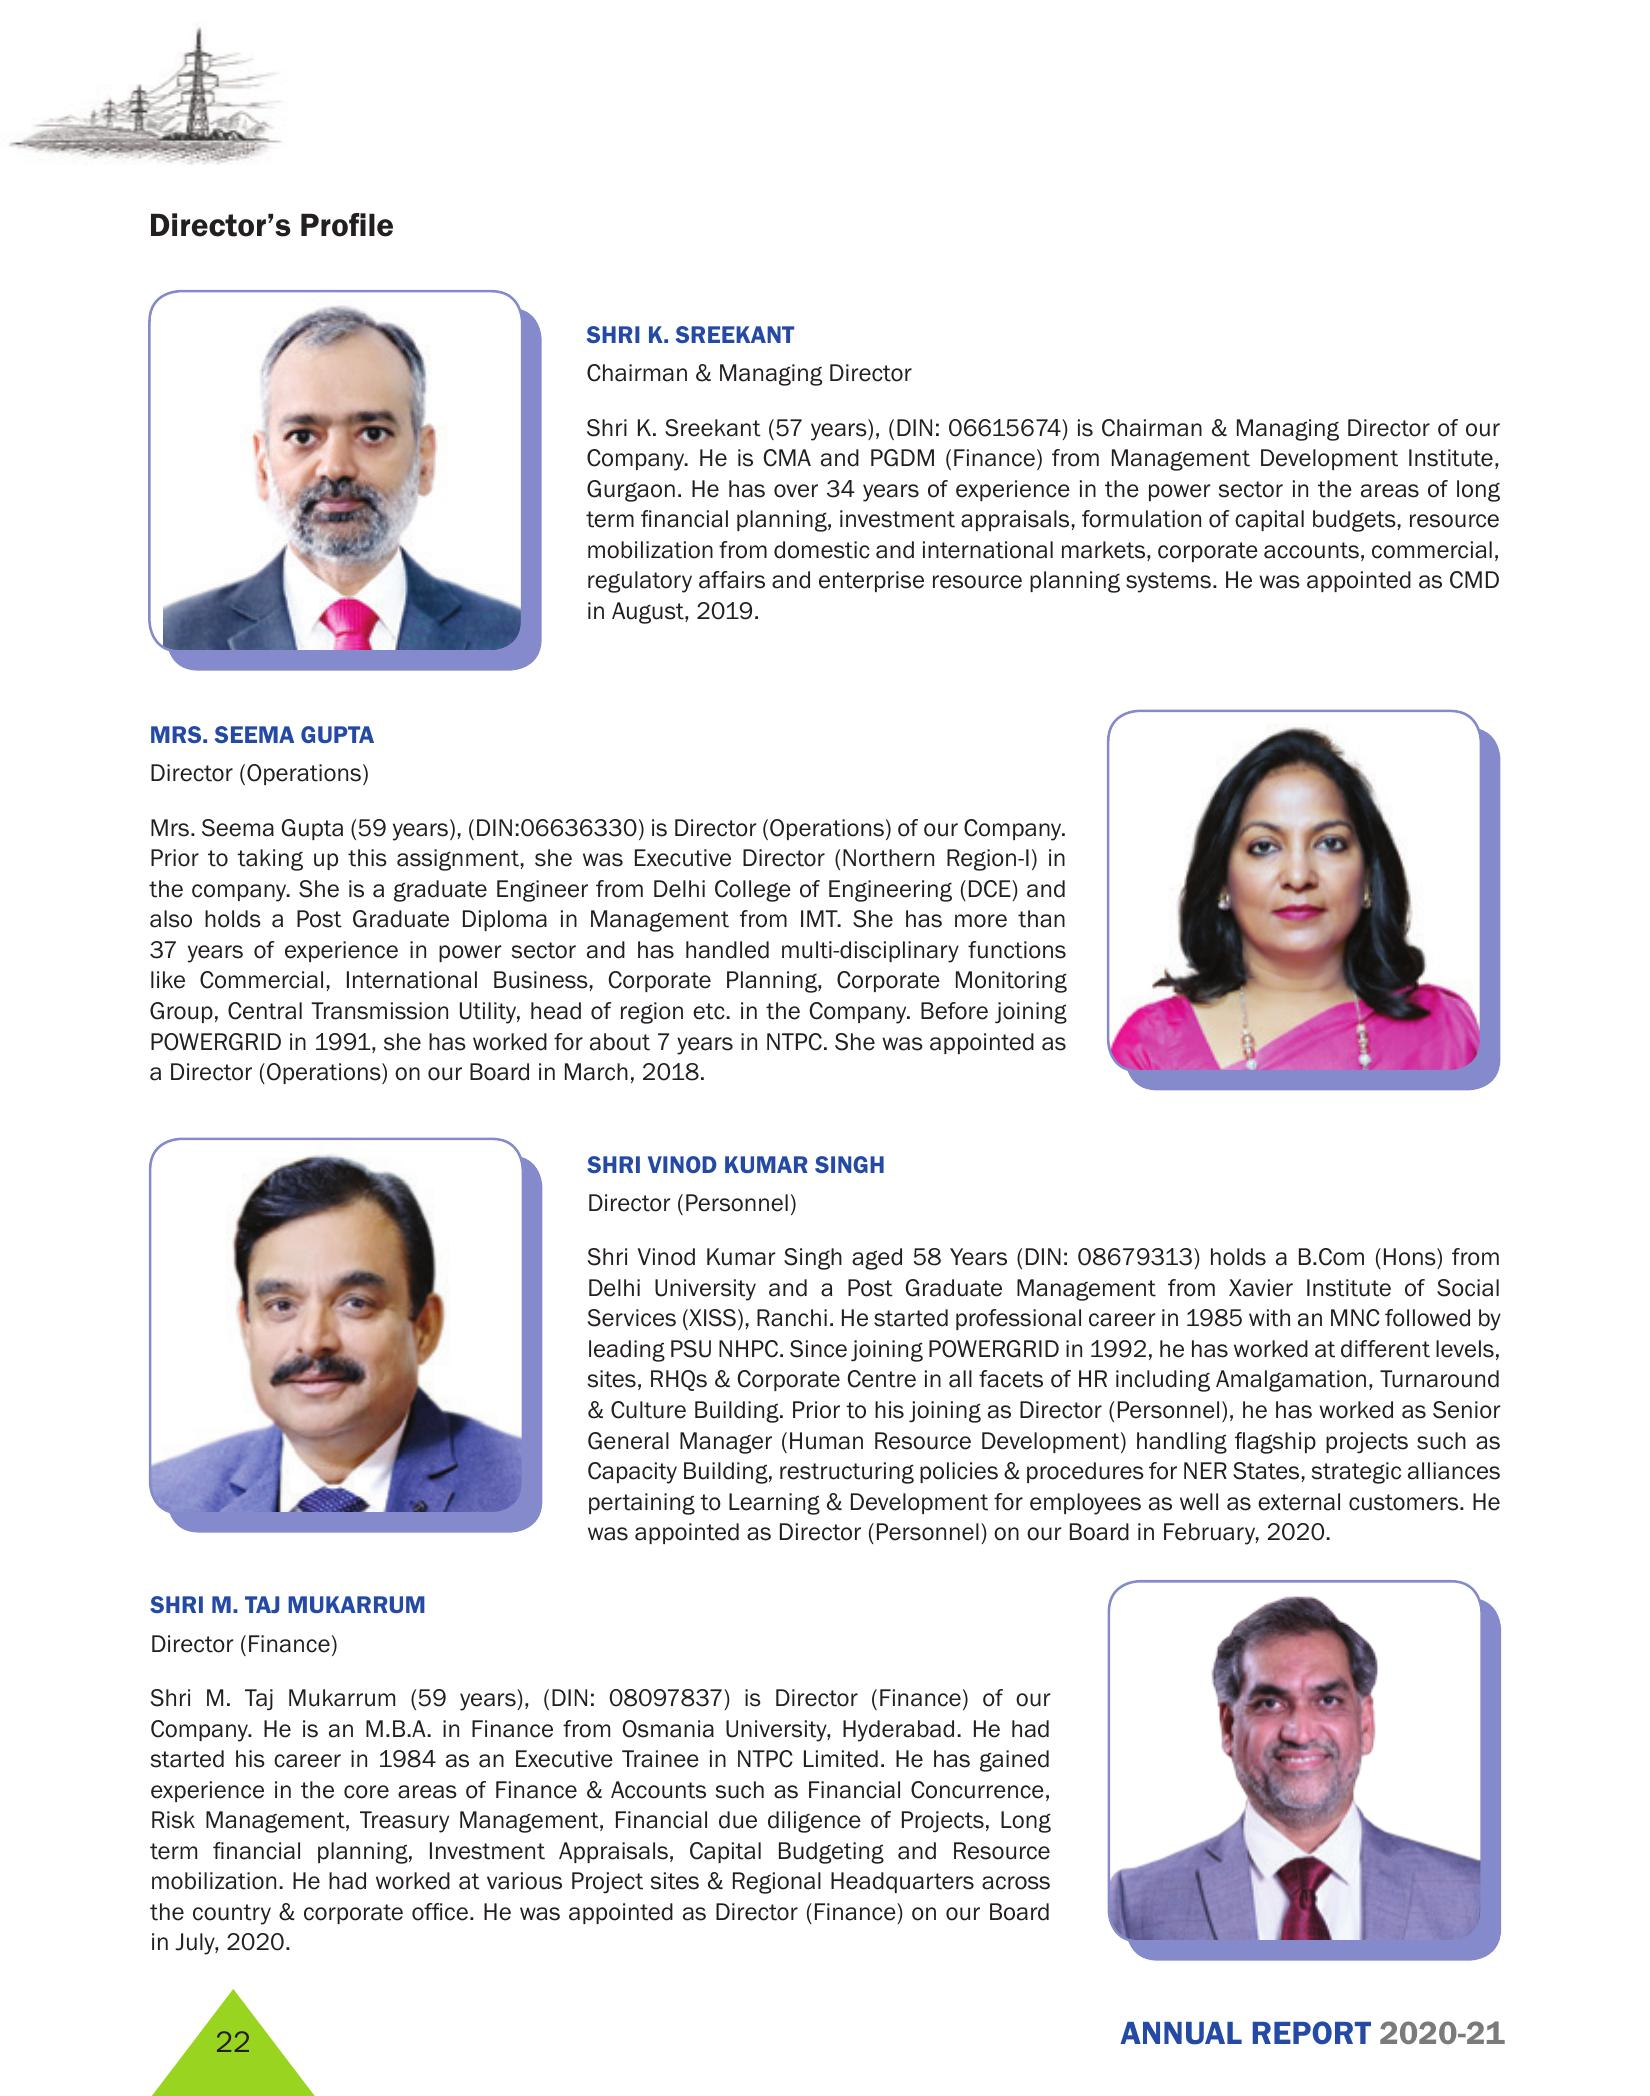Footer: (0, 1979, 1650, 2096)
Header: (0, 0, 1650, 189)
Image: (139, 1114, 565, 1545), (1067, 1569, 1521, 1965), (1067, 691, 1511, 1096), (129, 282, 560, 686)
